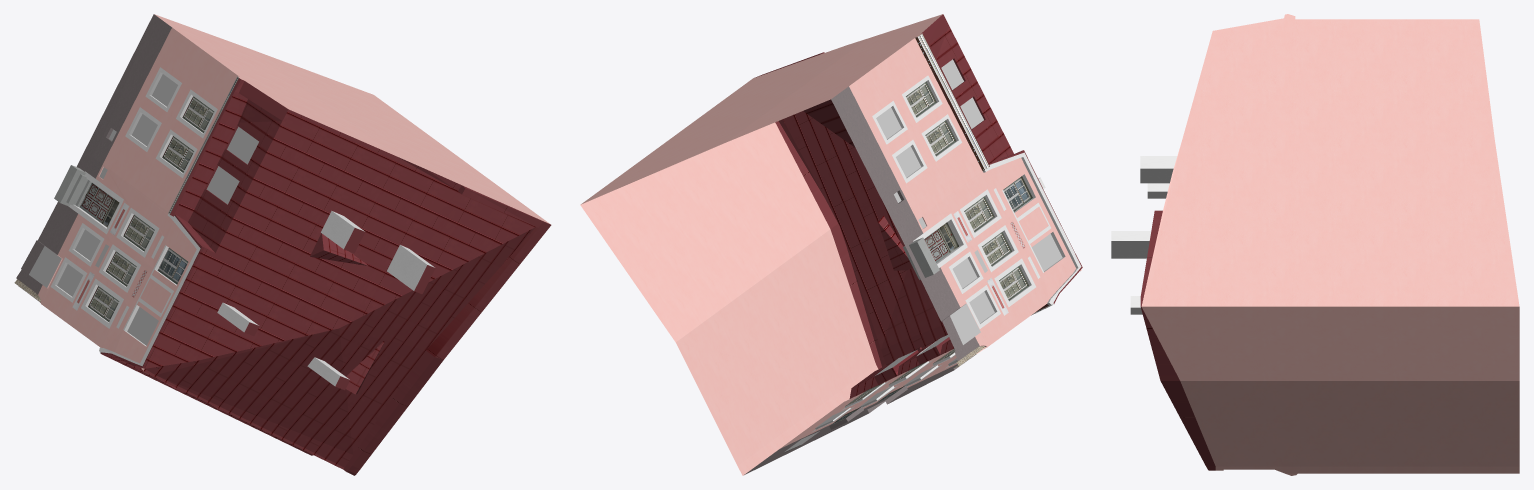
File: Pikk_50.obj
3 renders of one model, left to right at view 1: azimuth 30°, elevation 25°; view 2: azimuth 150°, elevation 25°; view 3: azimuth 270°, elevation 25°, orthographic. The views are drawn at different scales.
Parts seen in each view (by area): view 1: Pikk_50; view 2: Pikk_50; view 3: Pikk_50.
Part boxes in pixels (x1=…): Pikk_50: x1=14, y1=14, x2=551, y2=475; Pikk_50: x1=580, y1=14, x2=1082, y2=475; Pikk_50: x1=1111, y1=14, x2=1519, y2=475.
Bounding box in the file's own units: 21.45 × 21.41 × 18.7.
